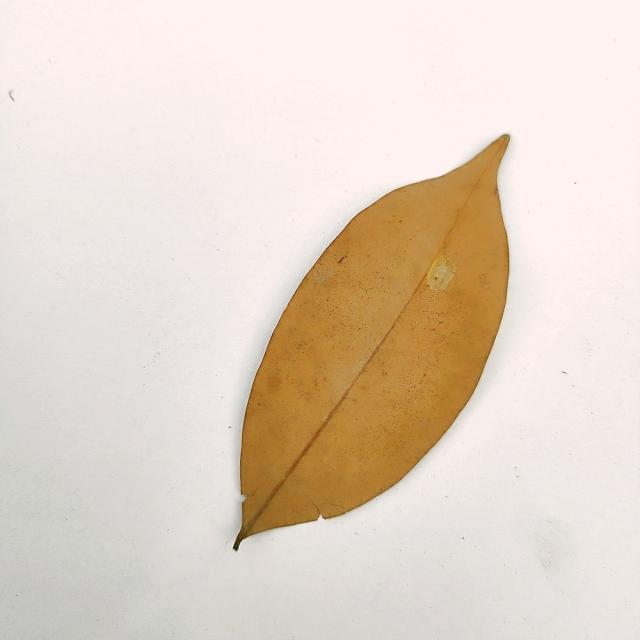Dry_Leaf-Lychee: (234, 136, 510, 549)
